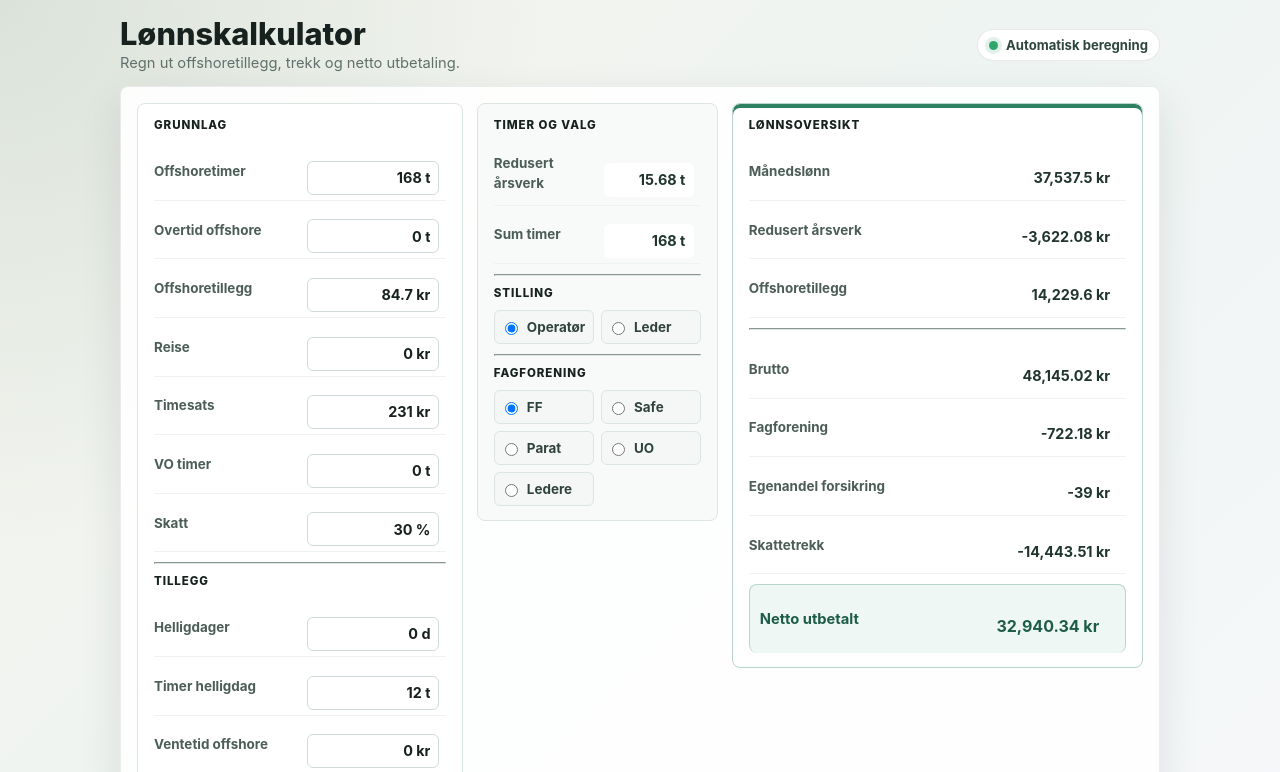
Scenario: shows validation feedback for tax outside the allowed range
Replace the text in the field labelled "Skatt" with "101 %" at coordinates (373, 529), box x1=307 y1=512 x2=439 y2=546
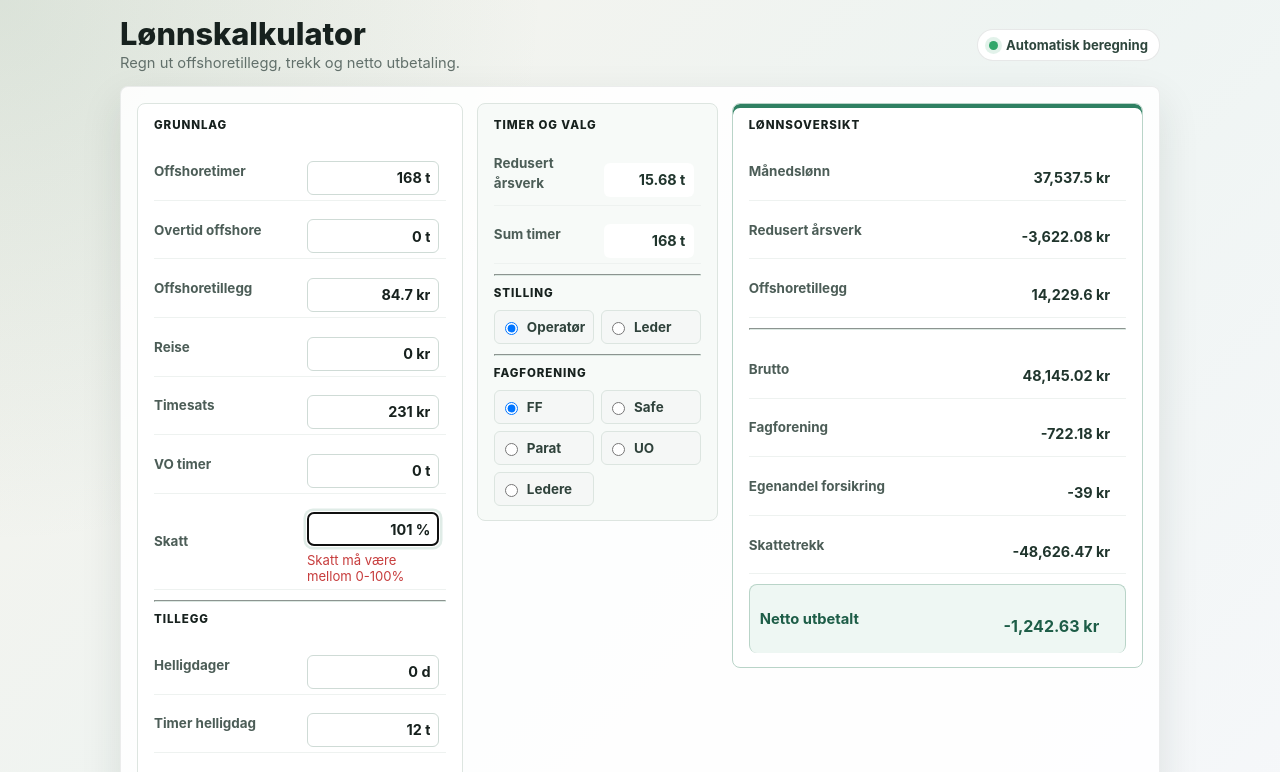
Check: the text "Skatt må være mellom 0-100%" is shown, box x1=307 y1=552 x2=404 y2=584
